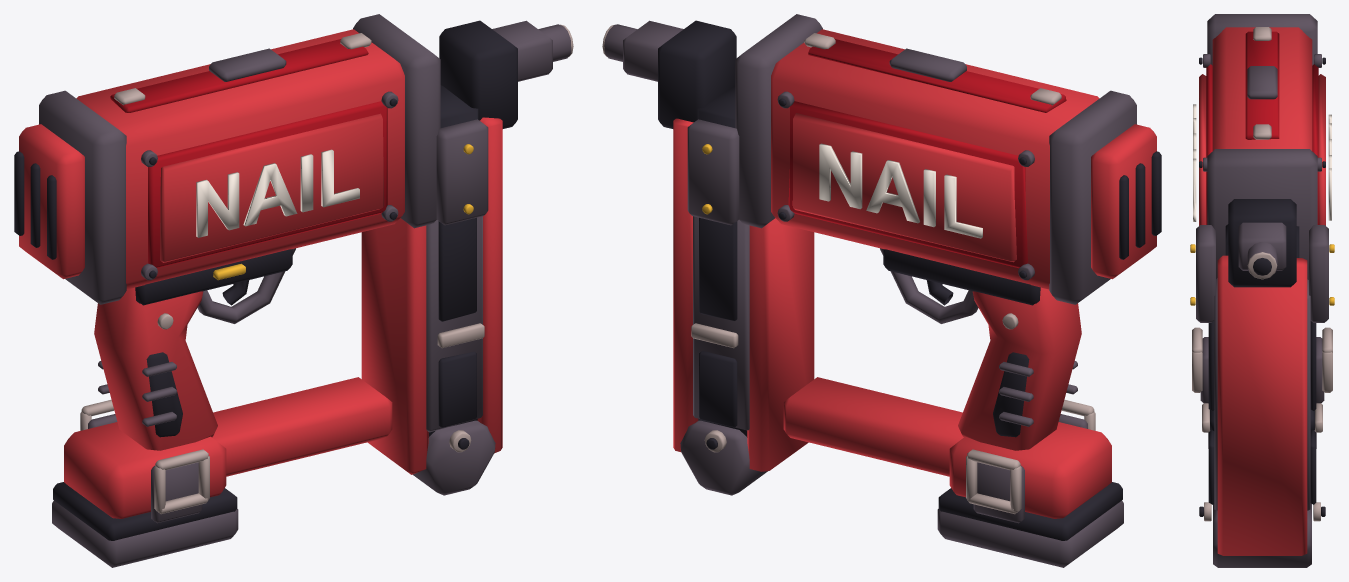
The model's file is wpn.nail-gun.lod1.glb.
The picture shows the model from 3 angles, left to right: view 1: azimuth 30°, elevation 25°; view 2: azimuth 150°, elevation 25°; view 3: azimuth 270°, elevation 25°; orthographic projection. The views are drawn at different scales.
Parts seen in each view (by area): view 1: body, object 2; view 2: body, object 2; view 3: body, object 2.
Boxes of the visible parts, box(x1,y1,x2,y2) form: body: box(19, 29, 502, 518); object 2: box(14, 14, 573, 567); body: box(673, 29, 1156, 518); object 2: box(602, 14, 1161, 567); body: box(1199, 27, 1325, 555); object 2: box(1190, 14, 1334, 567).
Size of the model in its own units: 0.6275 by 0.514 by 0.166.
